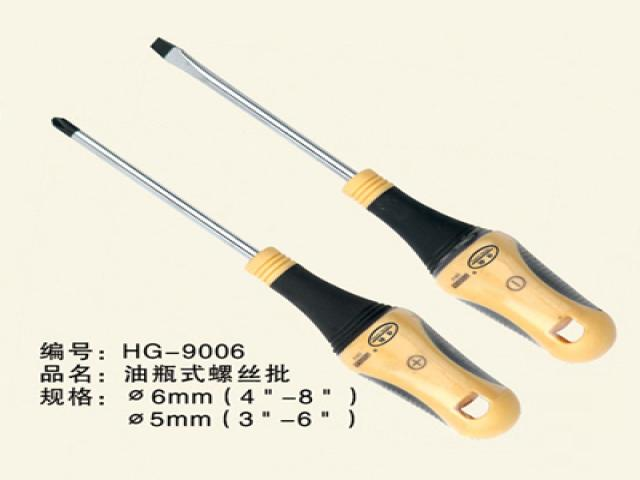Screwdriver: (152, 38, 616, 361), (52, 119, 520, 438)
